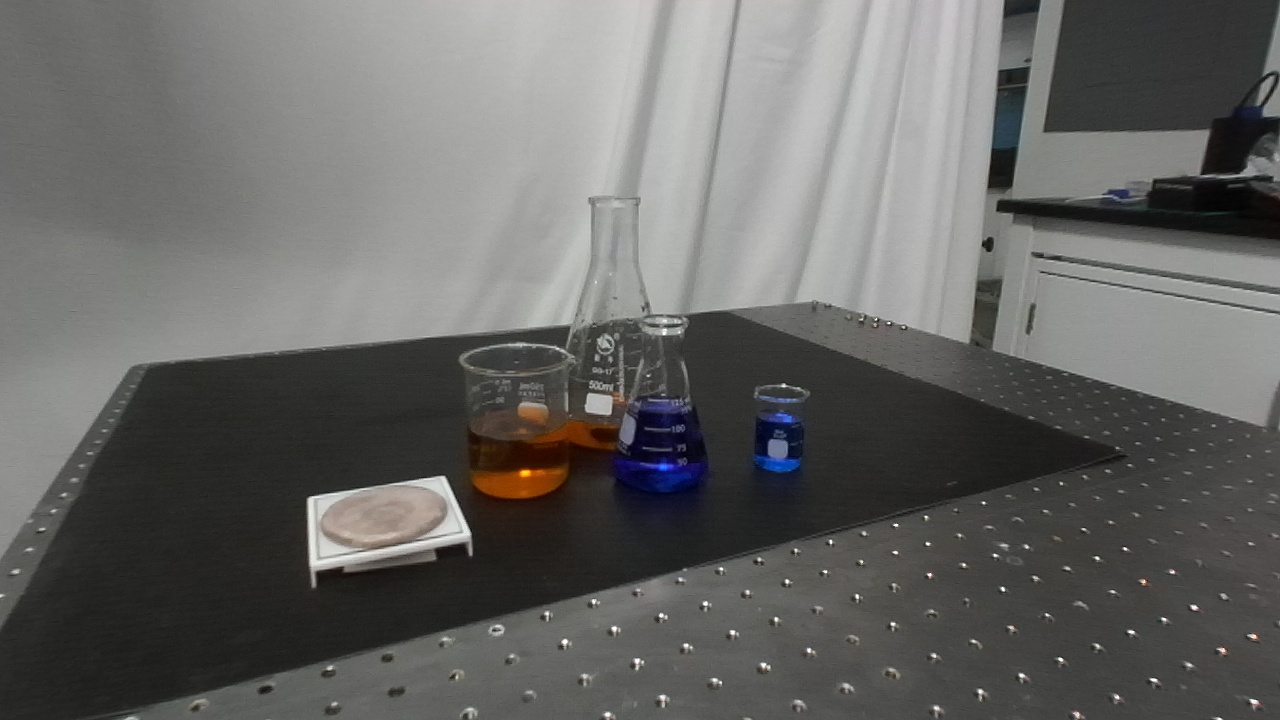glass: (552, 187, 676, 455), (454, 337, 578, 505), (609, 312, 710, 496), (748, 381, 809, 479)
plate: (294, 473, 479, 583)
